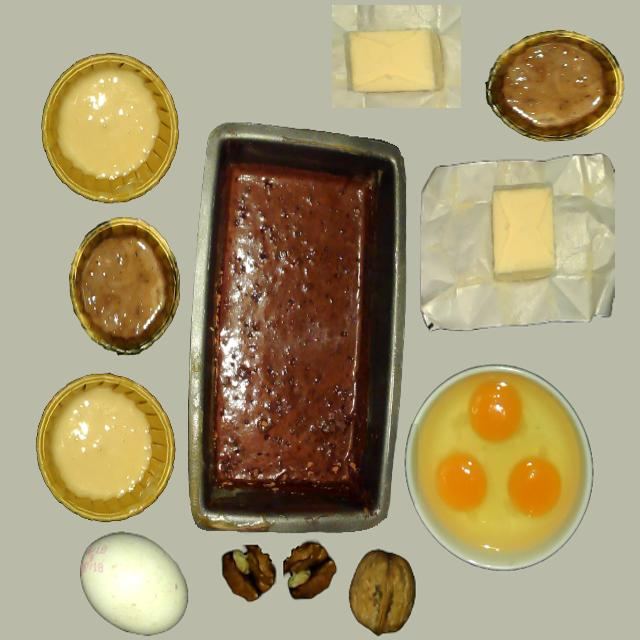Egg: (507, 457, 562, 517), (468, 381, 523, 441), (436, 452, 488, 512)
Walnut: (343, 543, 426, 640)
